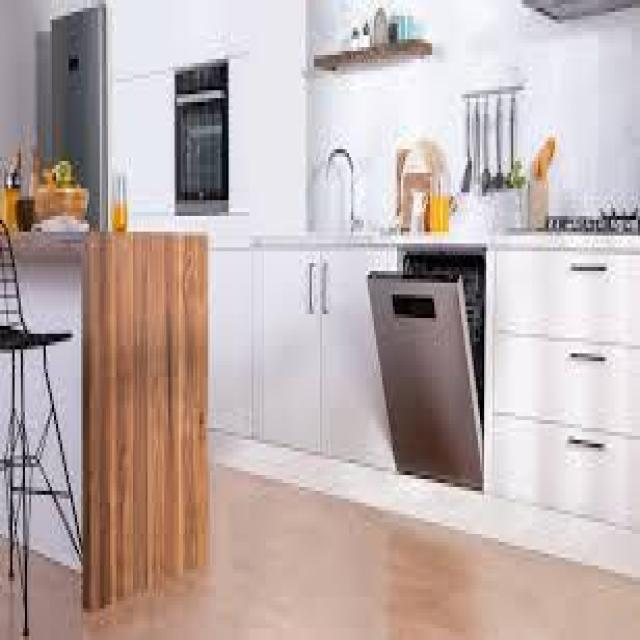dishwasher: (363, 236, 492, 494)
